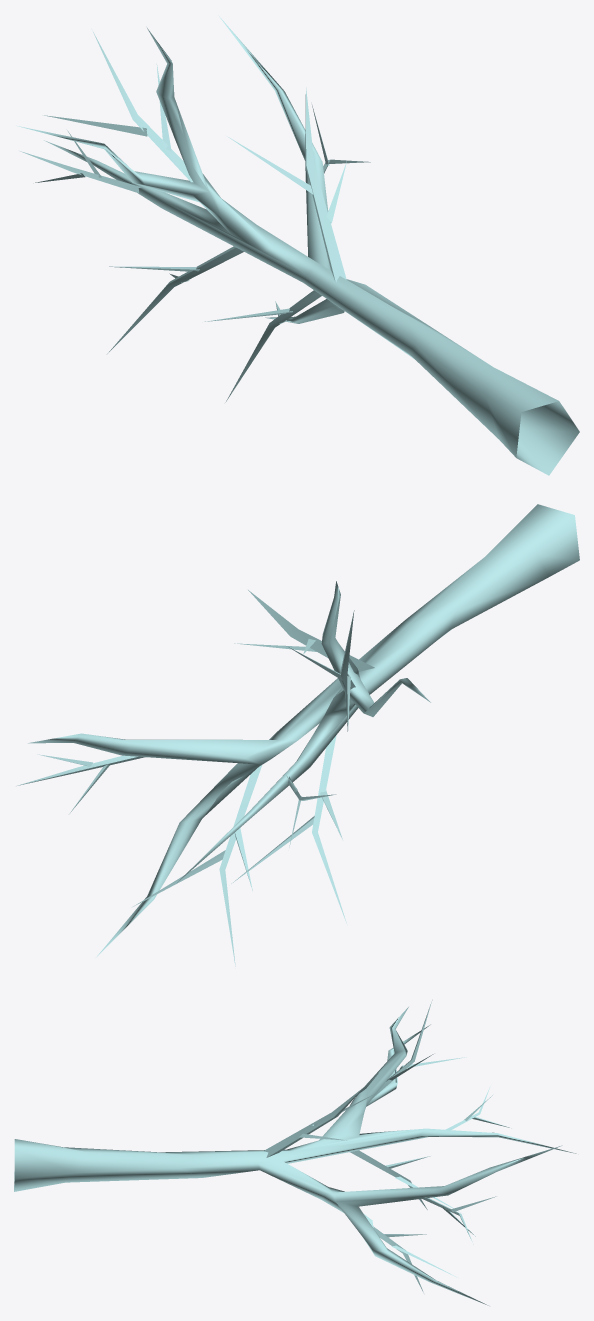
3 views of the same model, one above another, from view 1: azimuth 30°, elevation 25°; view 2: azimuth 150°, elevation 25°; view 3: azimuth 270°, elevation 25° (orthographic). The views are drawn at different scales.
Visible parts, largest first — view 1: Object75; view 2: Object75; view 3: Object75.
Part boxes in pixels (box(x1,y1,x2,y2)): Object75: box(16, 15, 579, 475); Object75: box(17, 504, 579, 966); Object75: box(14, 1000, 576, 1305).
Bounding box in the file's own units: 29114 × 29071 × 57004.
